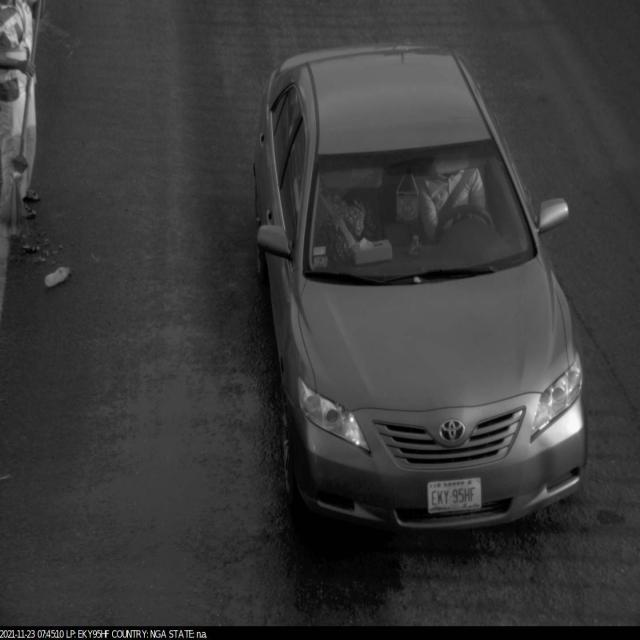windshield: (296, 133, 545, 297)
